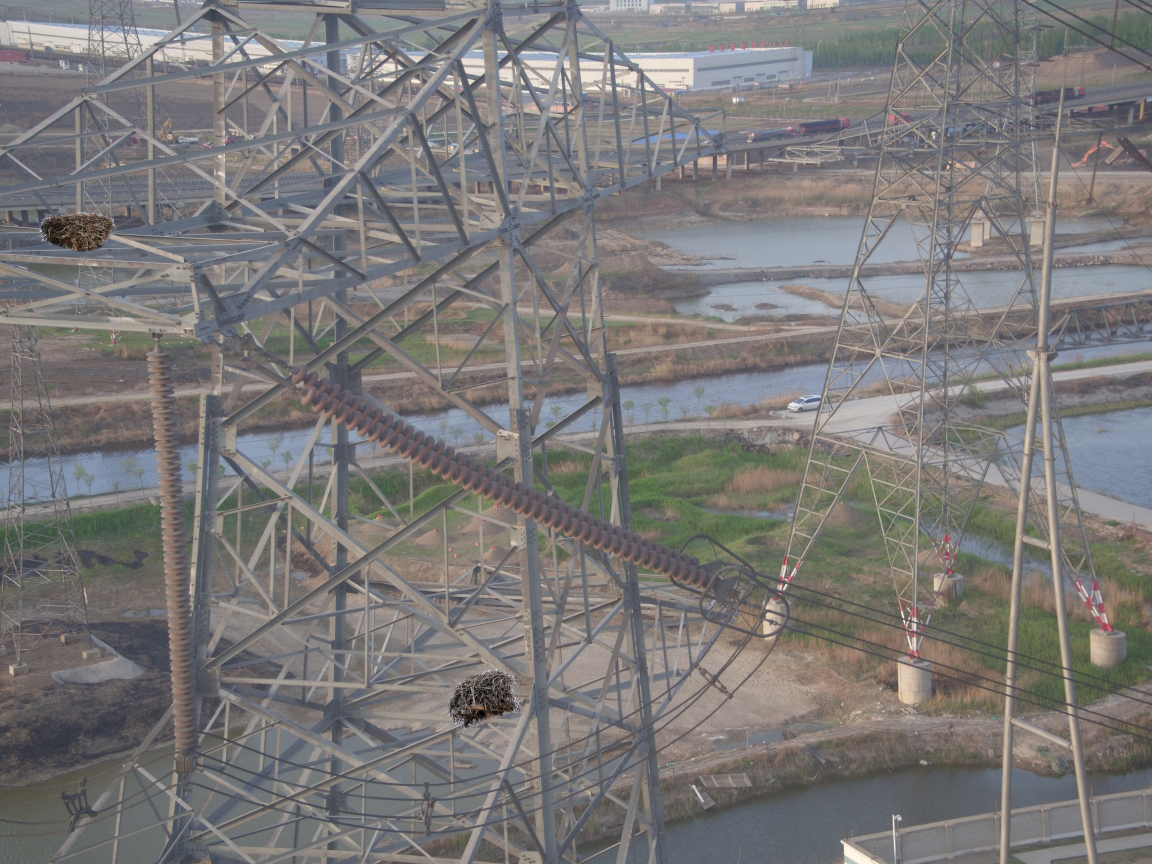nest: (446, 666, 520, 730), (36, 209, 117, 254)
